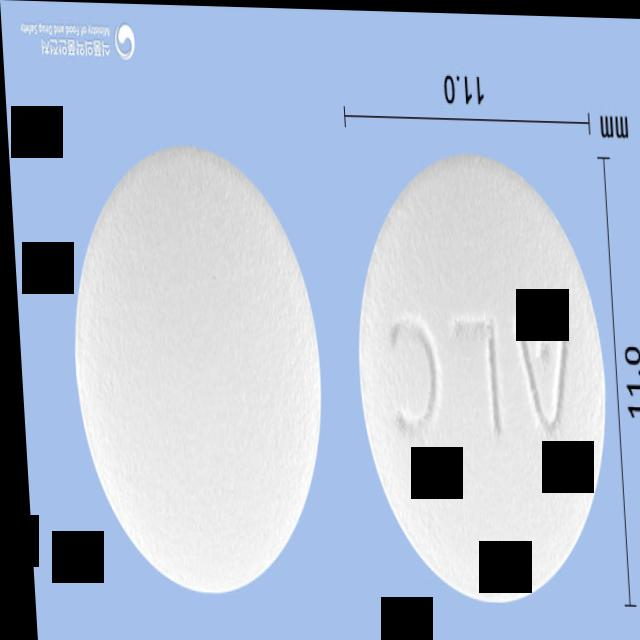Ciprofloxacin Hcl Tab- Arlico: (340, 142, 615, 614), (56, 133, 328, 599)
